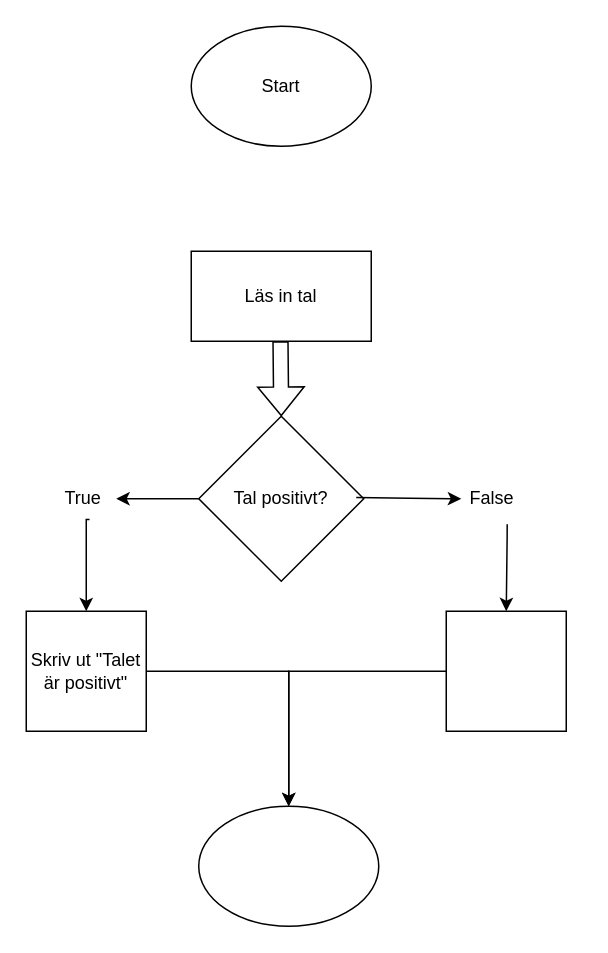
The diagram is 608 pixels wide and 953 high, and some of its shapes have lost their labels. The shapes that lost their labels are listed below. From the top down, each one's centre as x and y in pixels, then its label:
[505,670]: Skriv ut "talet är negativt"
[288,865]: Slut
